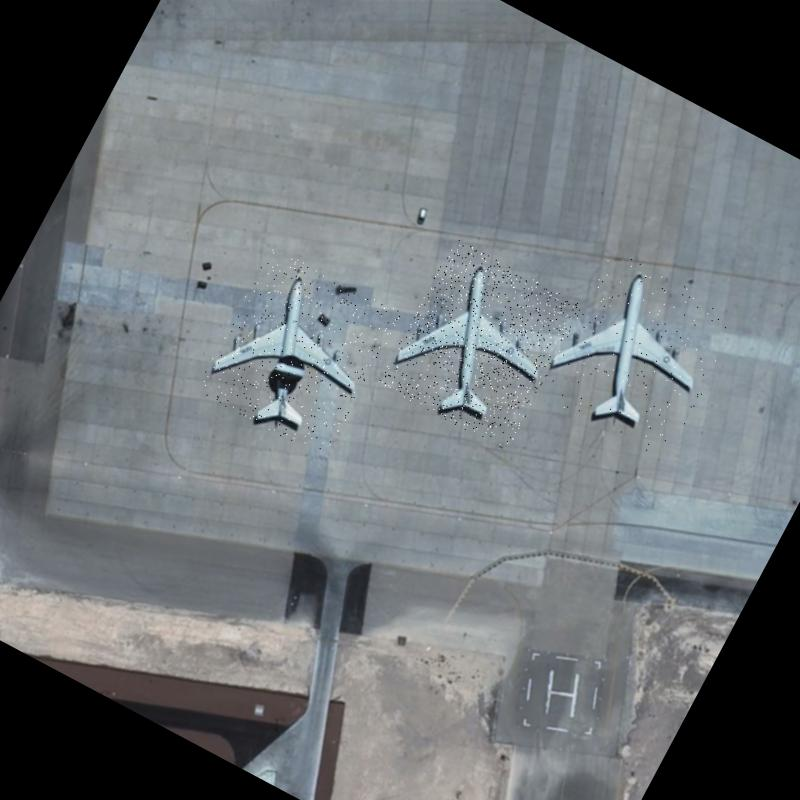A11: (534, 246, 742, 463), (377, 238, 584, 452)
A7: (194, 244, 403, 460)
